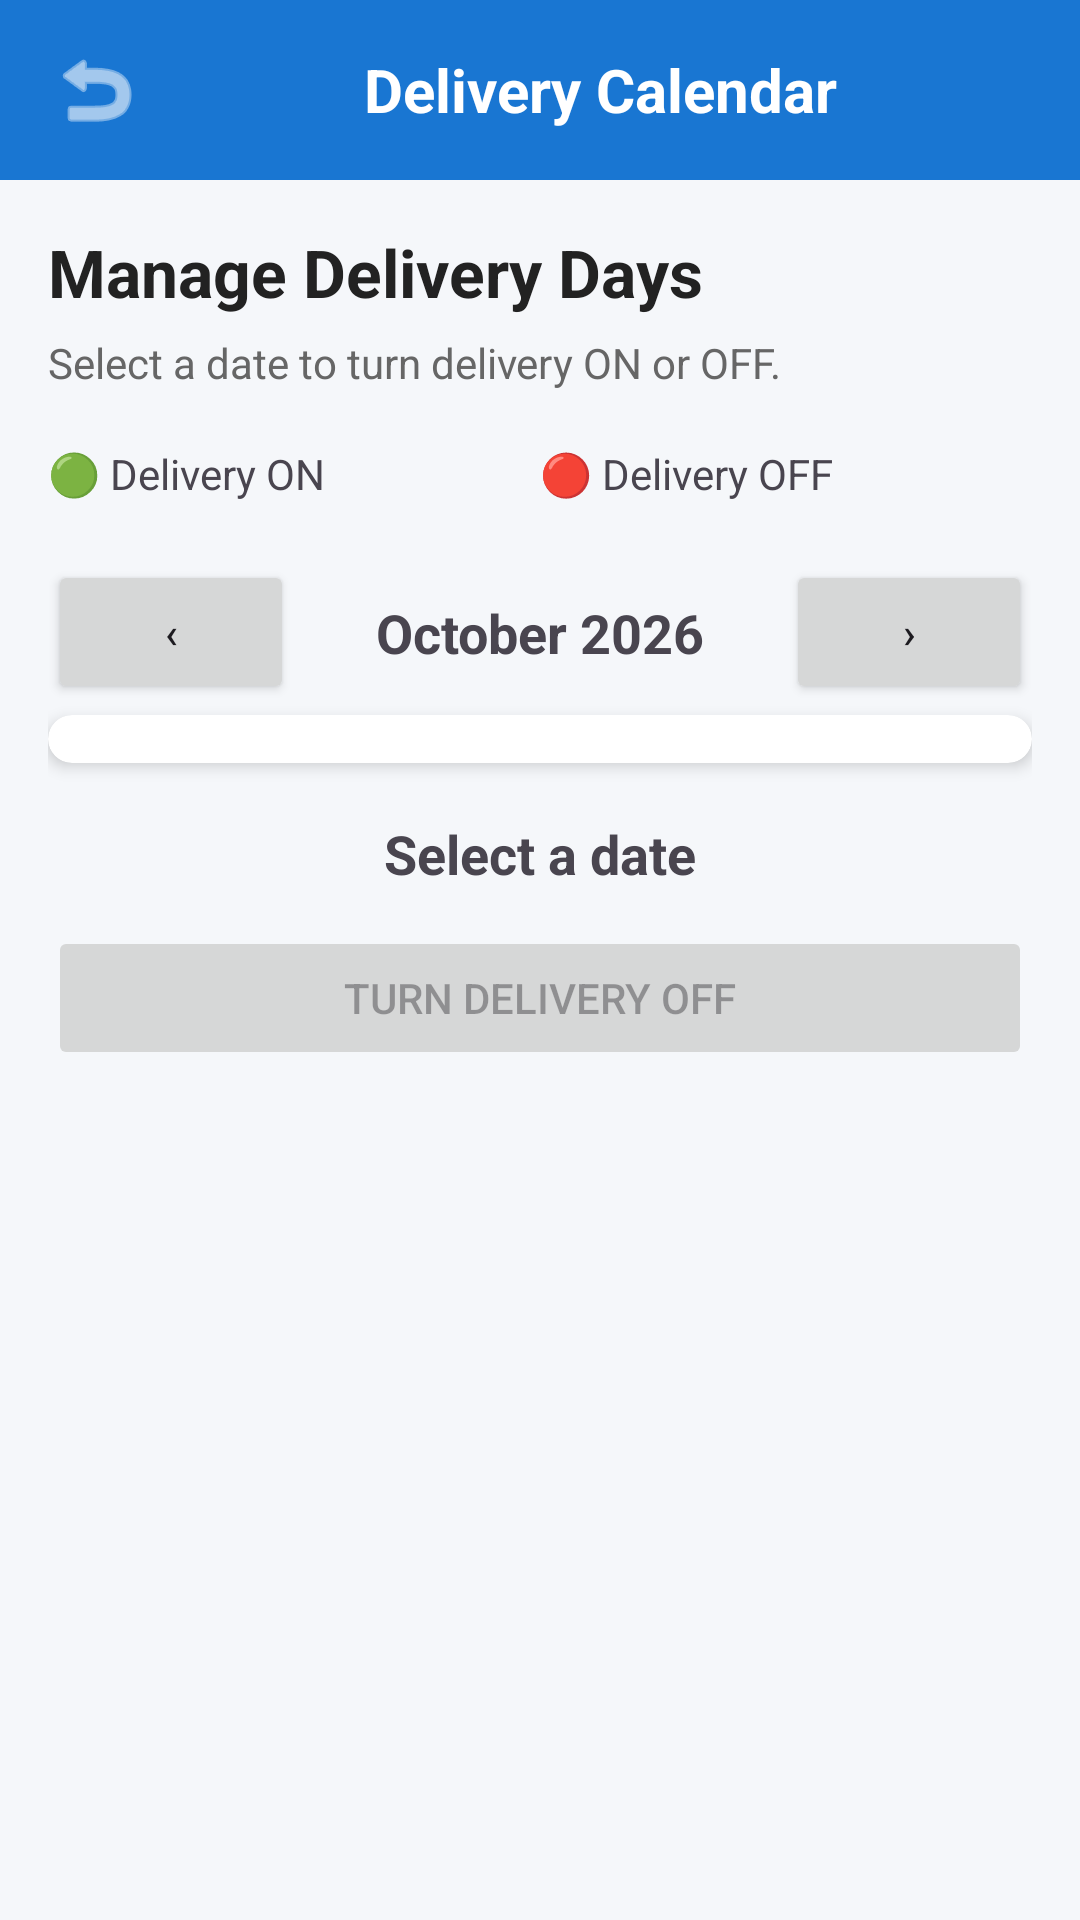

Where icons sit on this 1080 x 1920 app screen, as (x1, y1, x2, y2):
Back: (63, 59, 132, 122)
